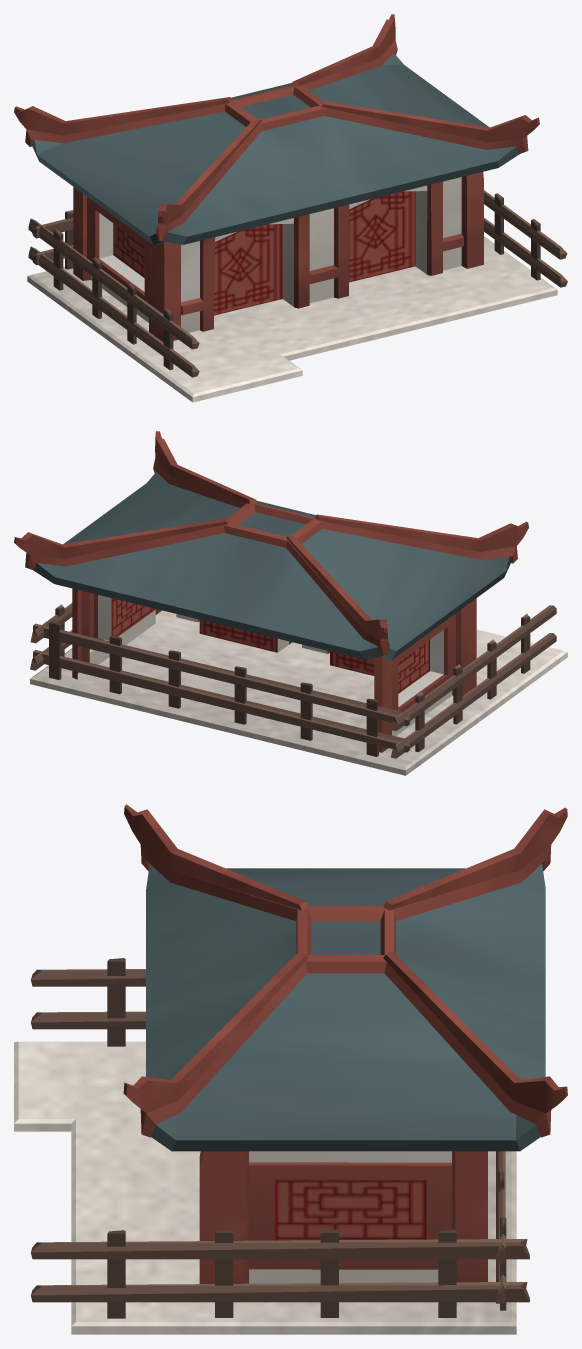
The model's file is camp_1lvl.fbx.
The picture shows the model from 3 angles, top to bottom: view 1: azimuth 30°, elevation 25°; view 2: azimuth 150°, elevation 25°; view 3: azimuth 270°, elevation 25°; orthographic projection. The views are drawn at different scales.
Visible parts, largest first — view 1: camp_1lvl; view 2: camp_1lvl; view 3: camp_1lvl.
Boxes of the visible parts, x1=… form: camp_1lvl: x1=14, y1=14, x2=567, y2=402; camp_1lvl: x1=14, y1=431, x2=567, y2=775; camp_1lvl: x1=14, y1=804, x2=567, y2=1334.
Bounding box in the file's own units: 6.01 × 2.61 × 4.94.
